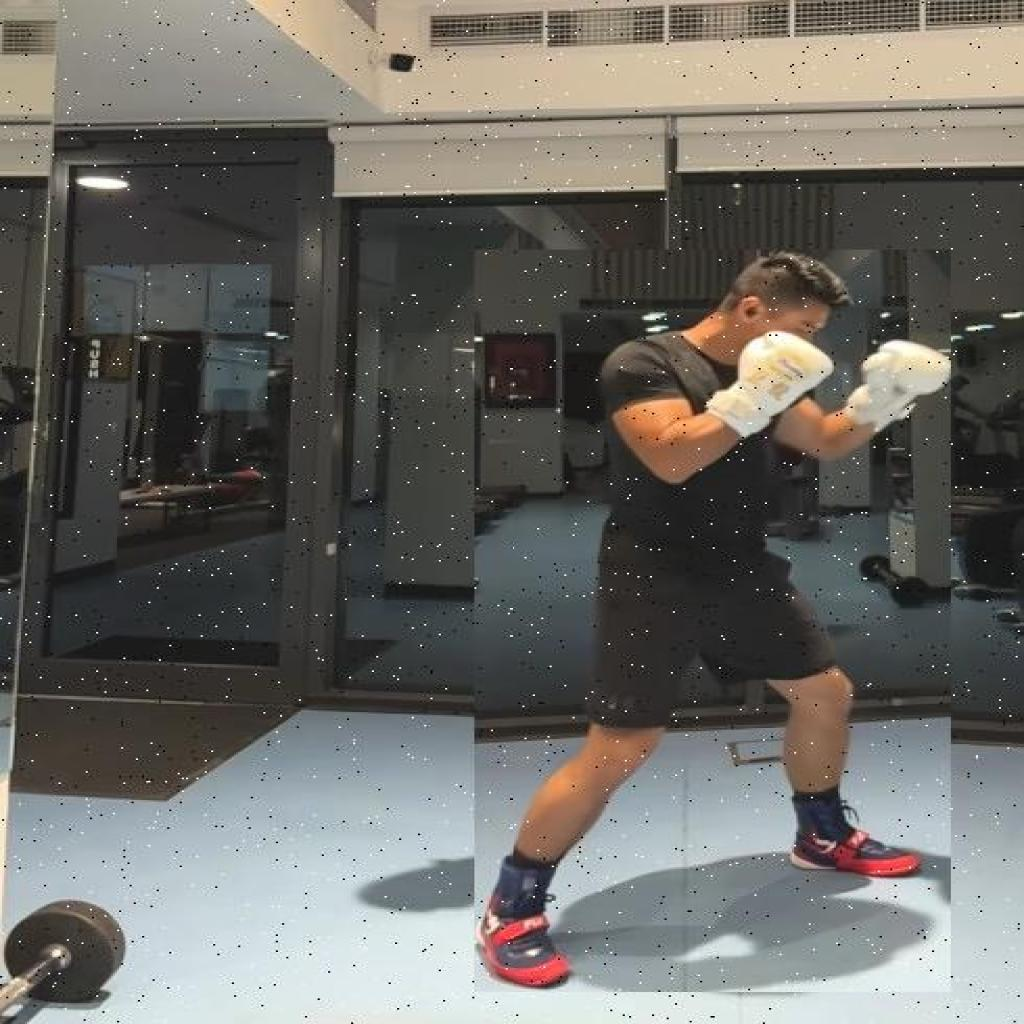no punch: (474, 250, 951, 991)
